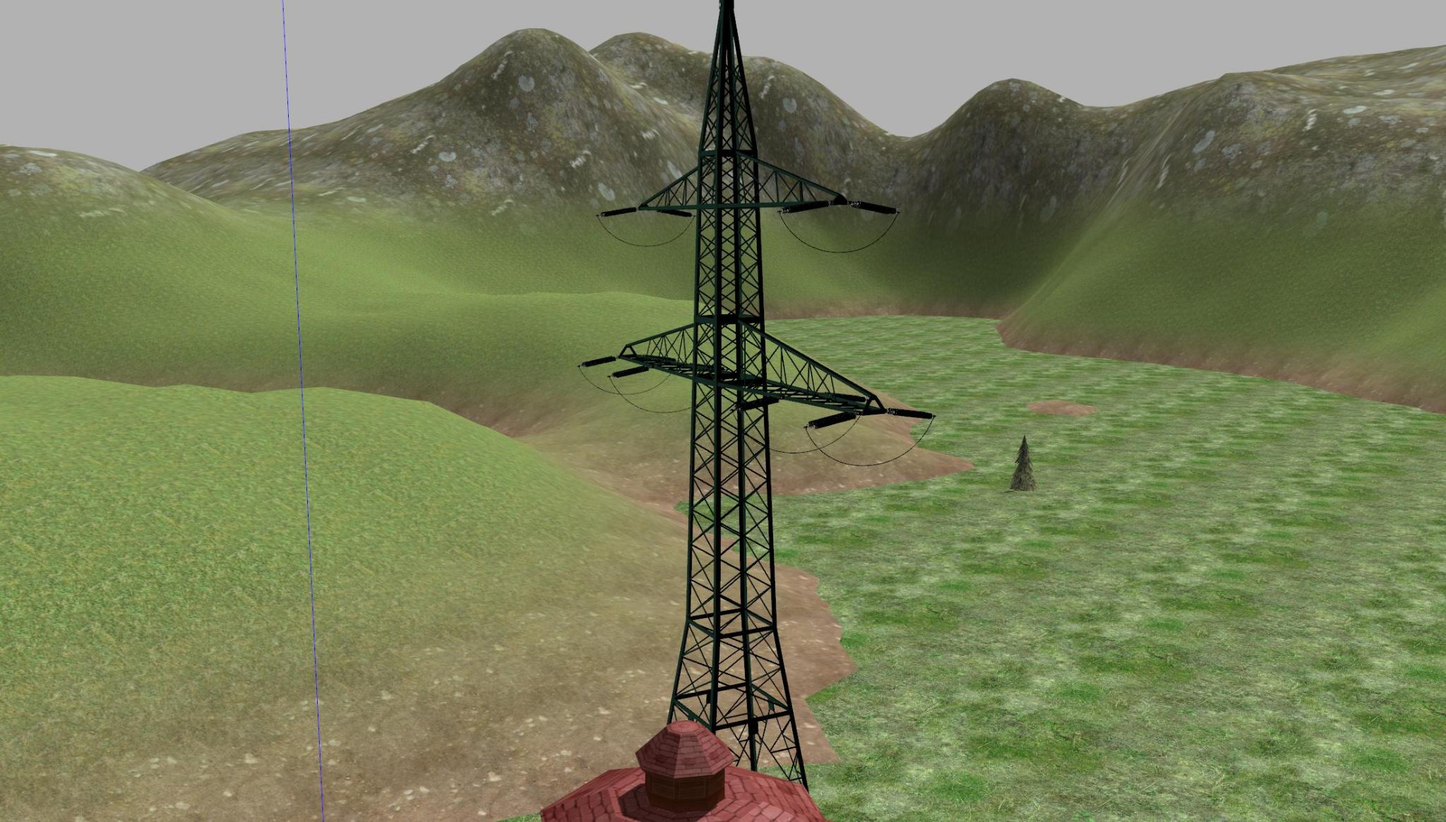tower: (610, 1, 871, 764)
